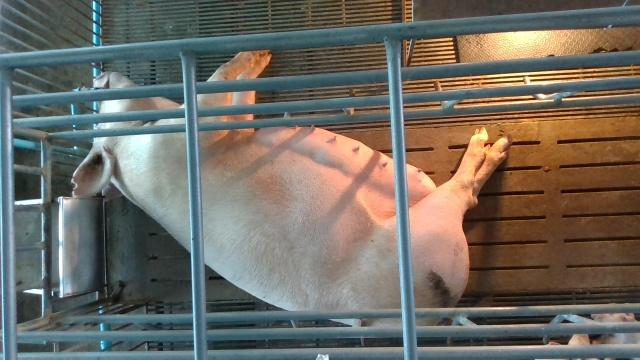sow-sleep-lactate: (73, 50, 507, 326)
